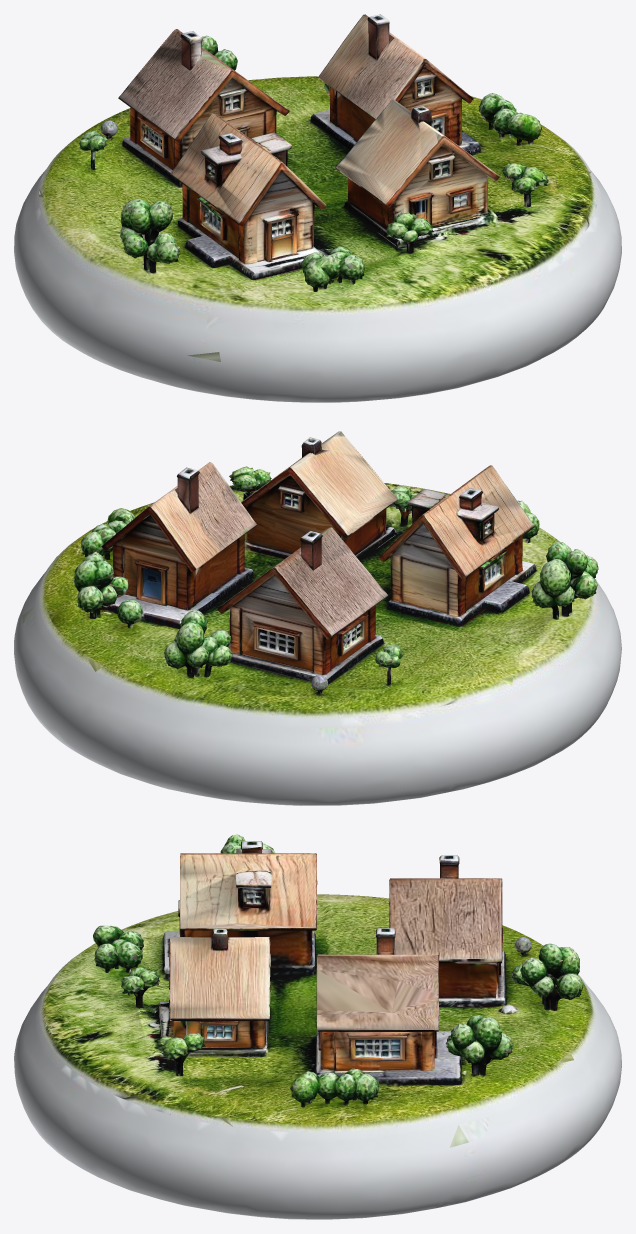
File: village.glb
3 views of the same model, one above another, from view 1: azimuth 30°, elevation 25°; view 2: azimuth 150°, elevation 25°; view 3: azimuth 270°, elevation 25° (orthographic).
Parts seen in each view (by area): view 1: village; view 2: village; view 3: village.
Boxes of the visible parts, left/top/right/bottom form: village: left=14, top=14, right=621, bottom=402; village: left=14, top=431, right=621, bottom=805; village: left=14, top=834, right=621, bottom=1219.
Size of the model in its own units: 1 by 0.3987 by 0.9999.
1 material, 1 textured.
